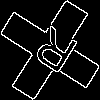R: (25, 25, 81, 83)
